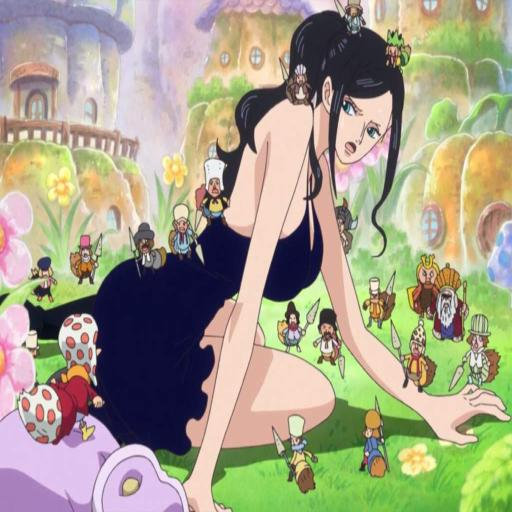NicoRobin: (248, 0, 390, 266)
